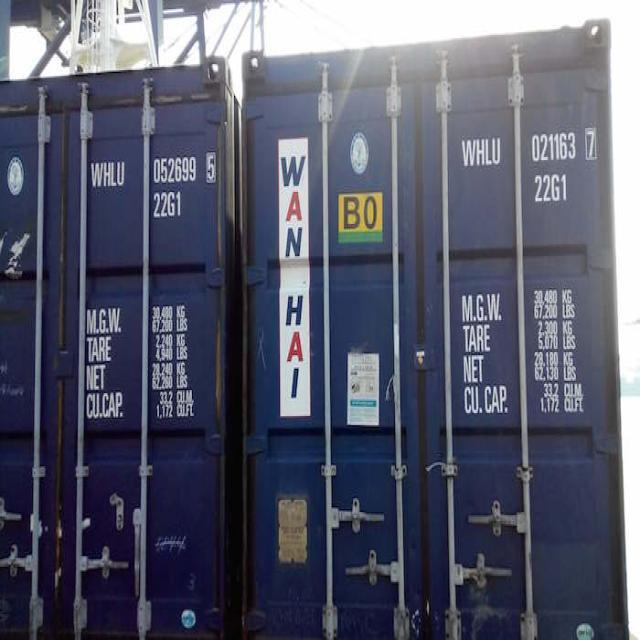ISO: (534, 176, 570, 201), (153, 190, 185, 218)
container_number: (458, 134, 602, 162), (90, 158, 218, 184)
